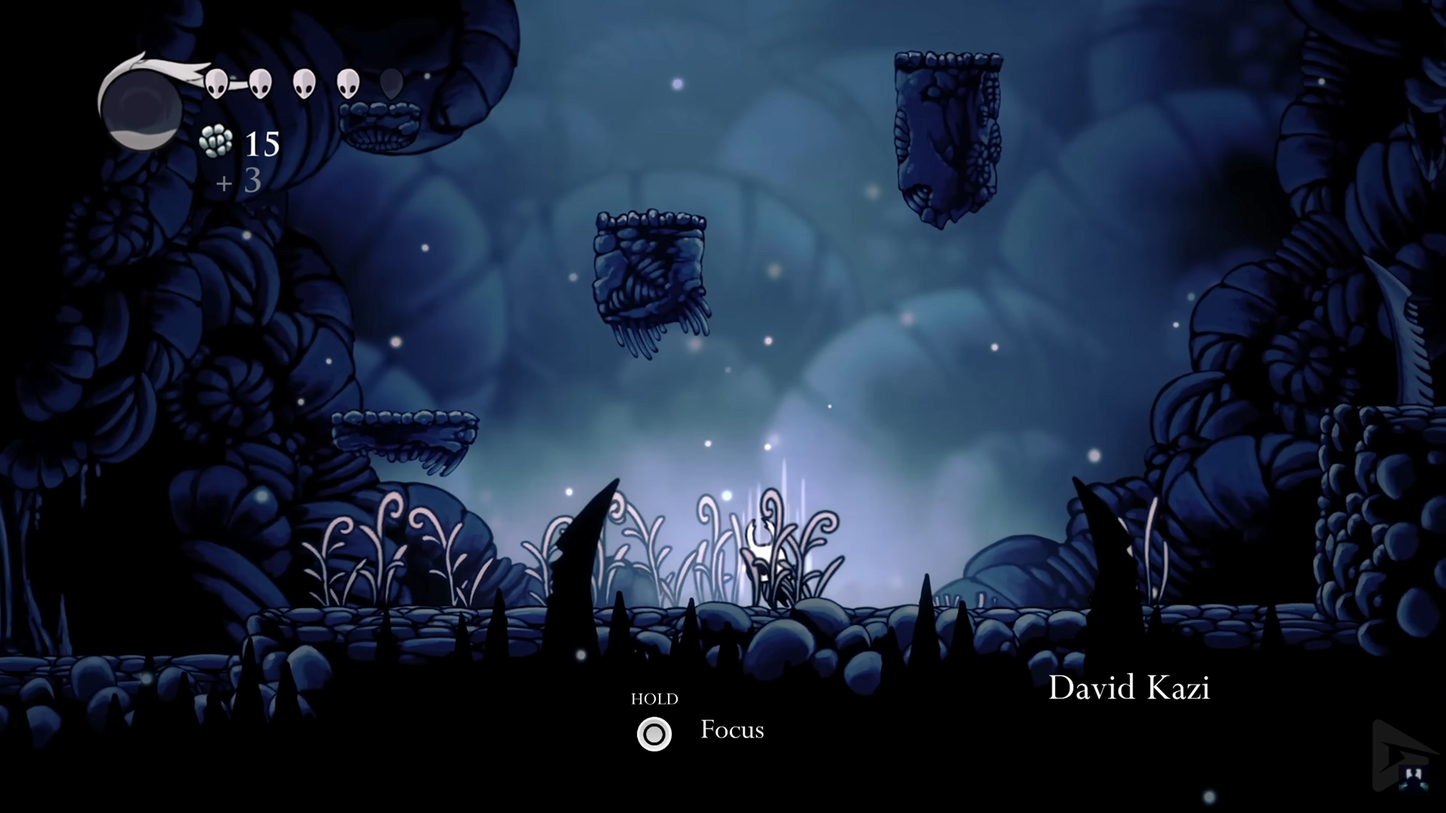HK: (738, 518, 806, 615)
